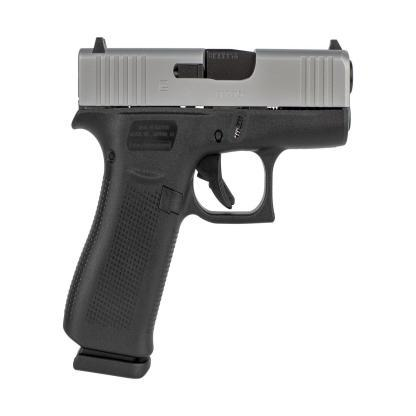Pistol: (61, 31, 356, 378)
